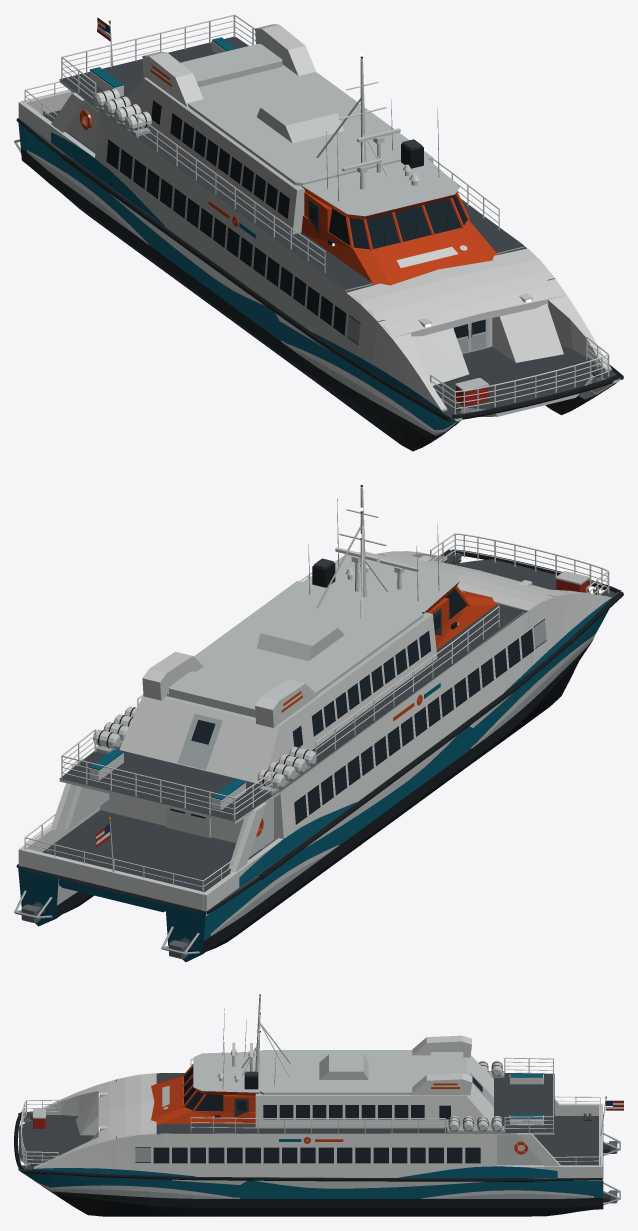
File: fast_ferry_mid.glb
The picture shows the model from 3 angles, top to bottom: view 1: azimuth 30°, elevation 25°; view 2: azimuth 150°, elevation 25°; view 3: azimuth 270°, elevation 25°; orthographic projection. The views are drawn at different scales.
Parts seen in each view (by area): view 1: MainCabin, UpperDeck, Hull, Pilothouse, glass, DeckGear; view 2: UpperDeck, MainCabin, Hull, DeckGear, glass, Pilothouse; view 3: MainCabin, Hull, UpperDeck, glass, Pilothouse, DeckGear.
Boxes of the visible parts, x1=… form: MainCabin: x1=18, y1=89, x2=613, y2=412; UpperDeck: x1=59, y1=24, x2=524, y2=290; Hull: x1=14, y1=118, x2=623, y2=451; Pilothouse: x1=301, y1=139, x2=497, y2=285; glass: x1=106, y1=100, x2=485, y2=338; DeckGear: x1=24, y1=14, x2=609, y2=413; UpperDeck: x1=59, y1=581, x2=524, y2=824; MainCabin: x1=18, y1=551, x2=613, y2=913; Hull: x1=14, y1=549, x2=623, y2=962; DeckGear: x1=24, y1=485, x2=609, y2=892; glass: x1=170, y1=589, x2=533, y2=823; Pilothouse: x1=302, y1=551, x2=498, y2=649; MainCabin: x1=31, y1=1072, x2=603, y2=1178; Hull: x1=14, y1=1111, x2=620, y2=1216; UpperDeck: x1=159, y1=1035, x2=554, y2=1135; glass: x1=153, y1=1067, x2=482, y2=1162; Pilothouse: x1=151, y1=1051, x2=258, y2=1124; DeckGear: x1=20, y1=994, x2=623, y2=1167.
Size of the model in its own units: 10.23 by 14.12 by 39.06.
